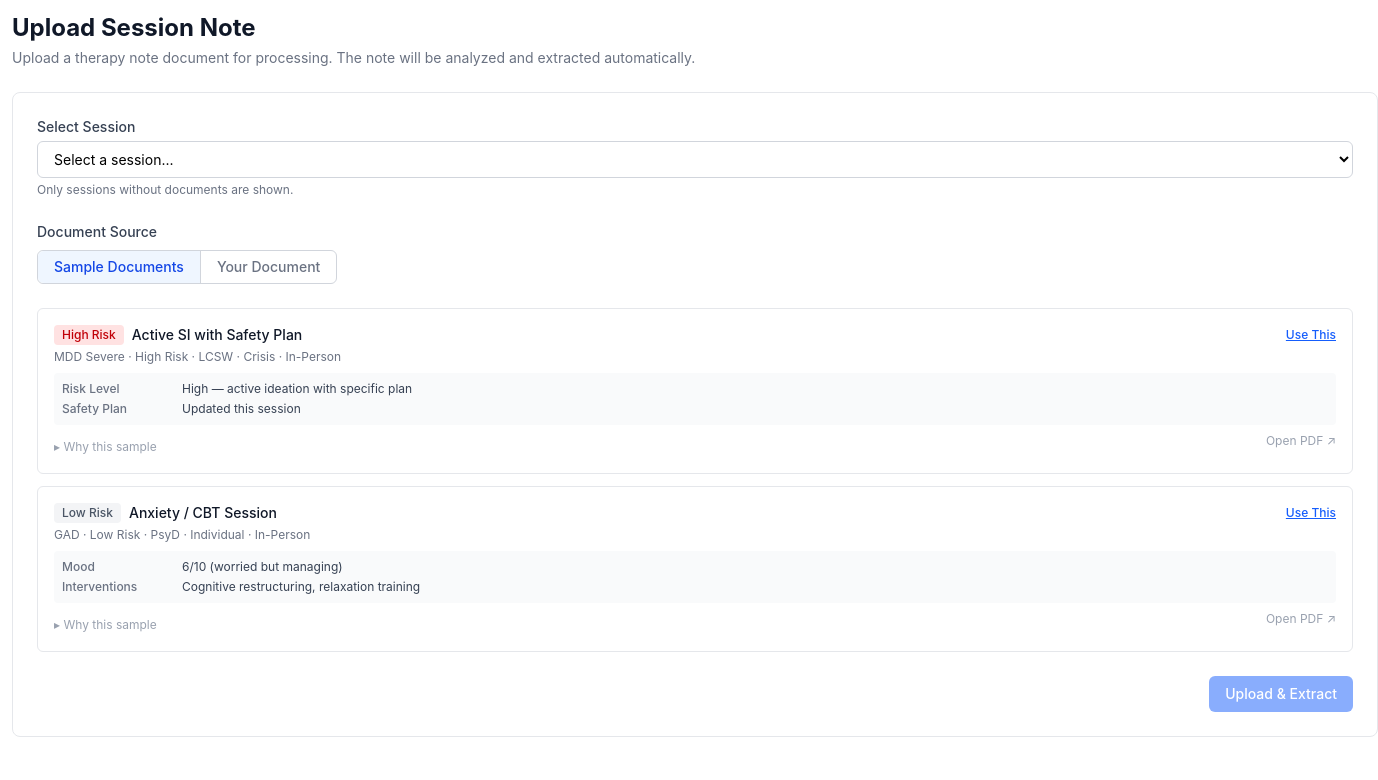
Test case: Upload page › toggles "Why this sample" clinical note
The width and height of the screenshot is (1378, 780).
Expected: the text "Anxiety / CBT Session" is shown, [129,504,277,521]
// Click to expand — find the first one (for the high risk card which renders first)
Click the button "▸ Why this sample" below "Updated this session": (105, 447) [54,439,157,455]
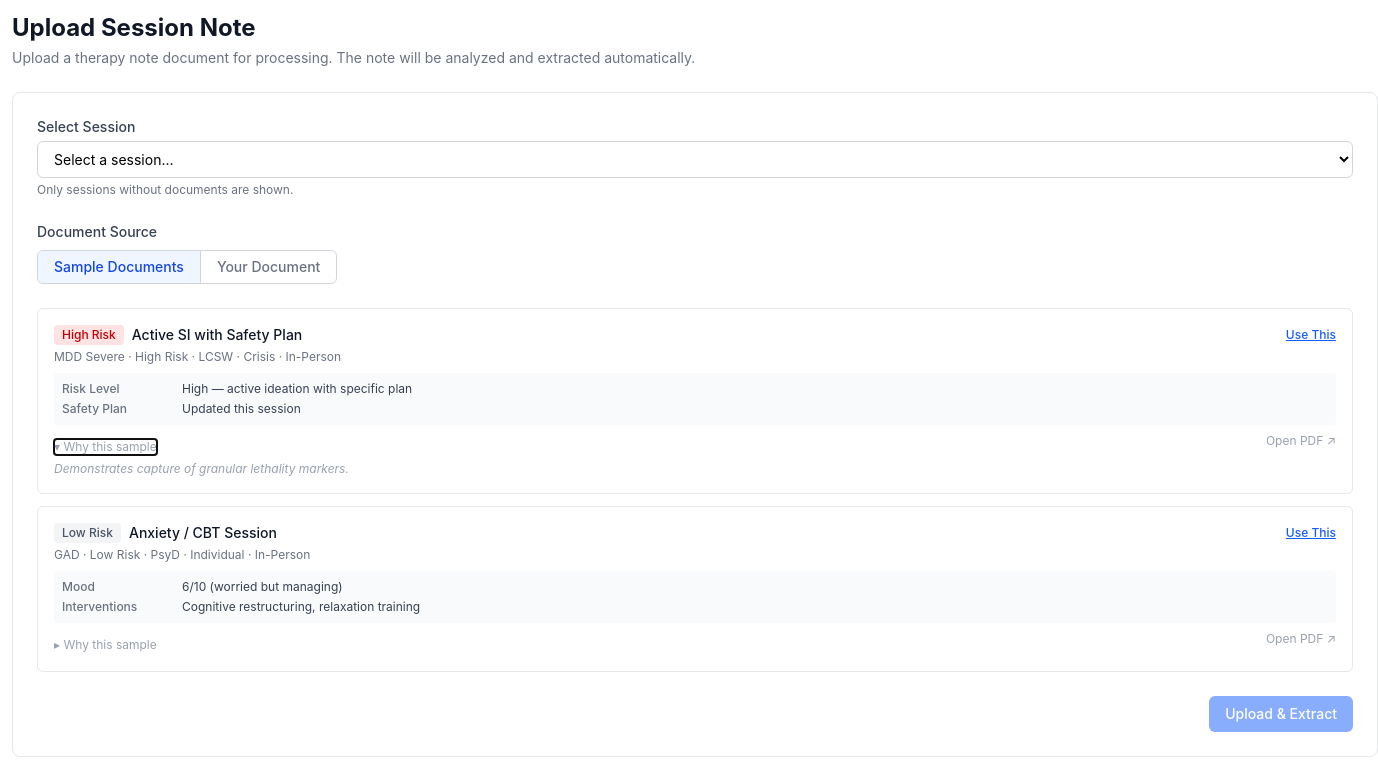
Expected: the text "Demonstrates capture of granular lethality markers." is shown, [54,461,349,477]
// Click to collapse
Click the button "▾ Why this sample": (105, 447) [54,439,157,455]
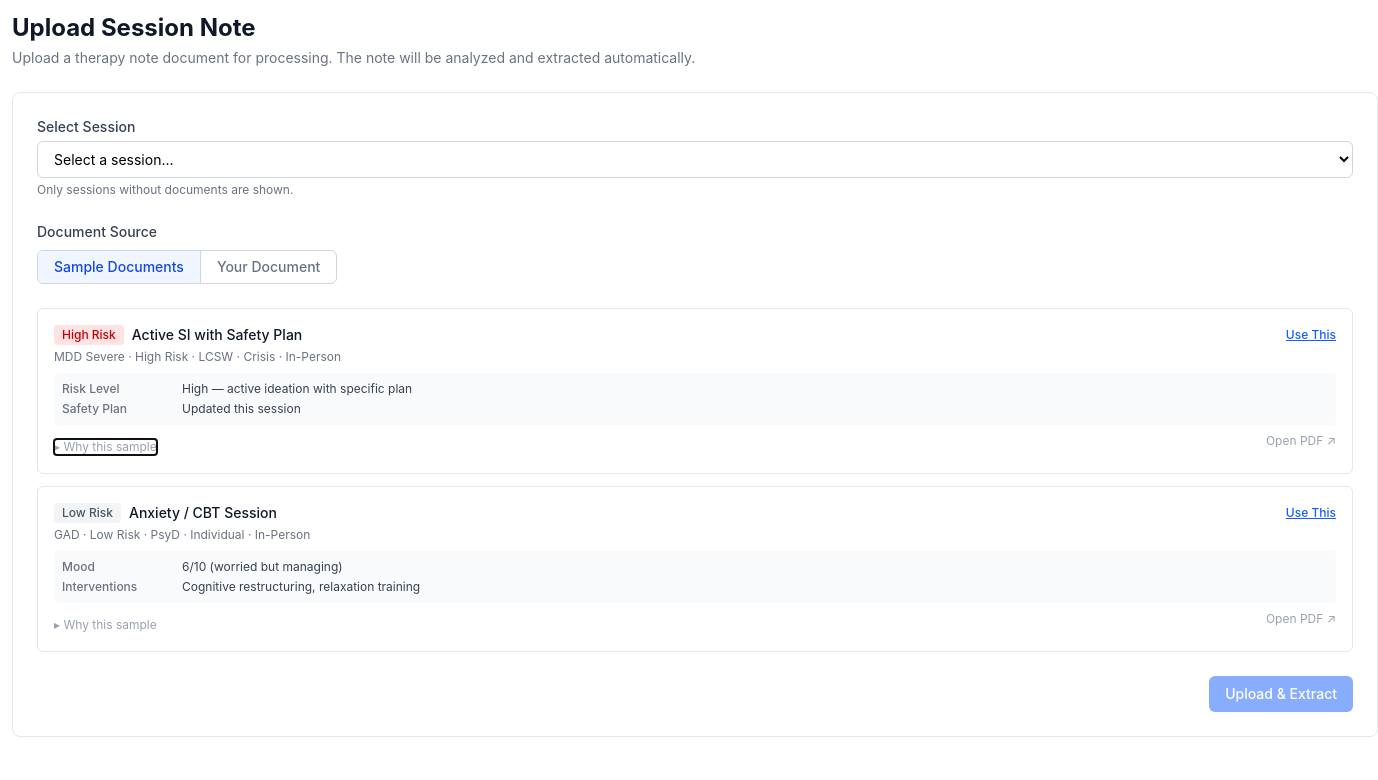
Expected: the text "Demonstrates capture of granular lethality markers" is gone
